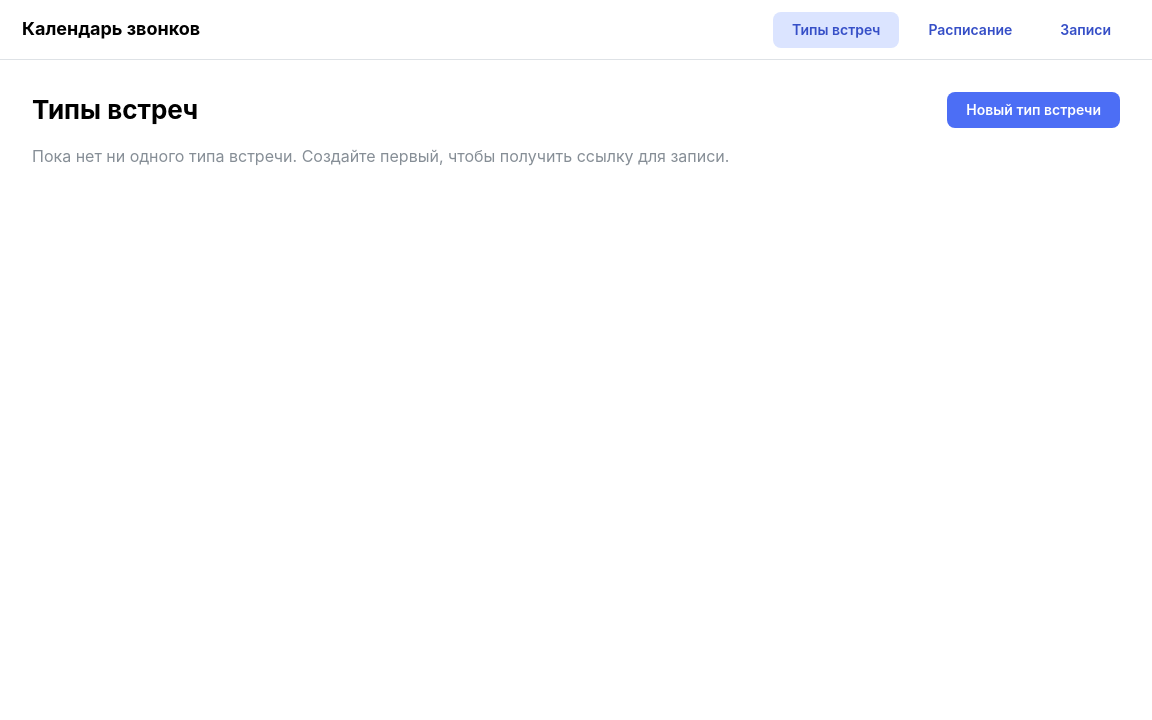
Test: EventTypesPage › validates the form before sending
Step 1. Click the button "Новый тип встречи" → (1034, 110), box [947,92,1120,128]
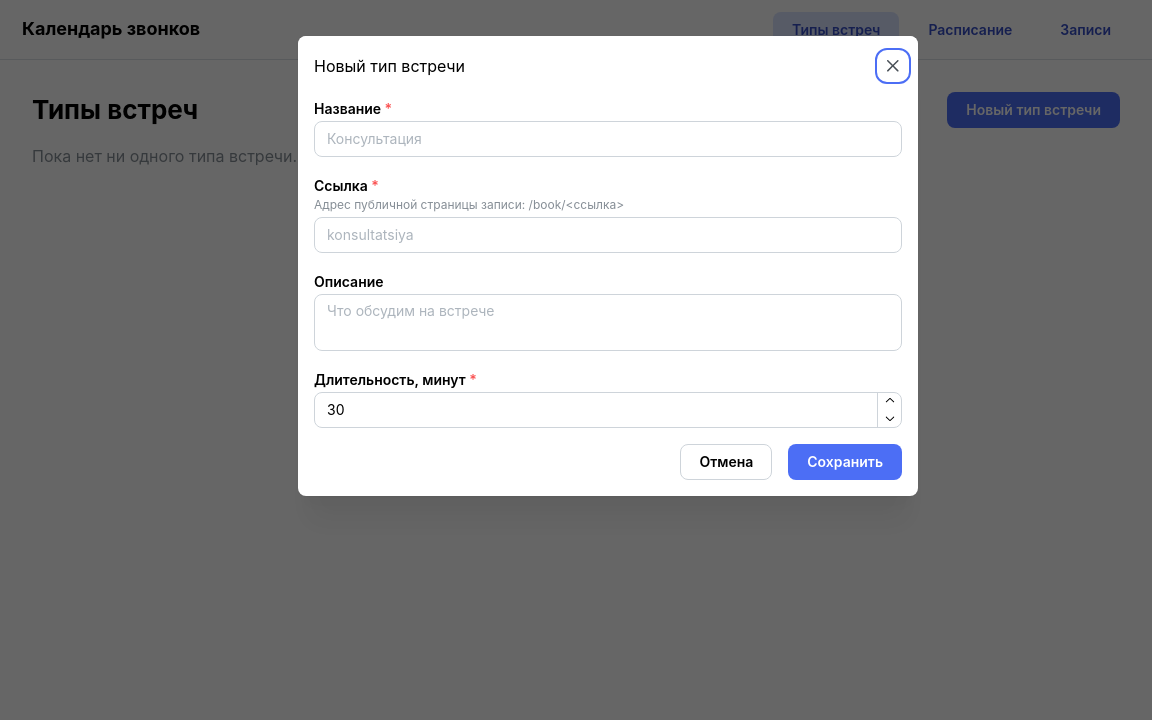
Step 2. Type "Bad Slug" into the field labelled "Ссылка *" → (608, 235), box [314,217,902,253]
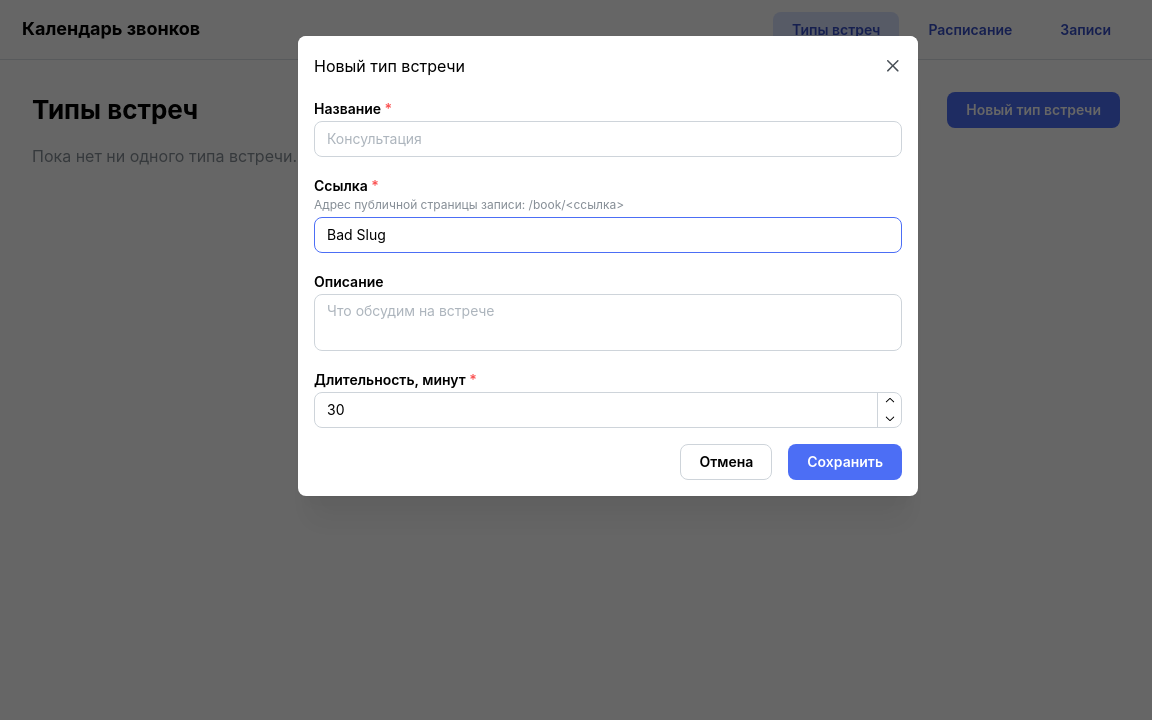
Step 3. Click the button "Сохранить" → (845, 462), box [788,444,902,480]
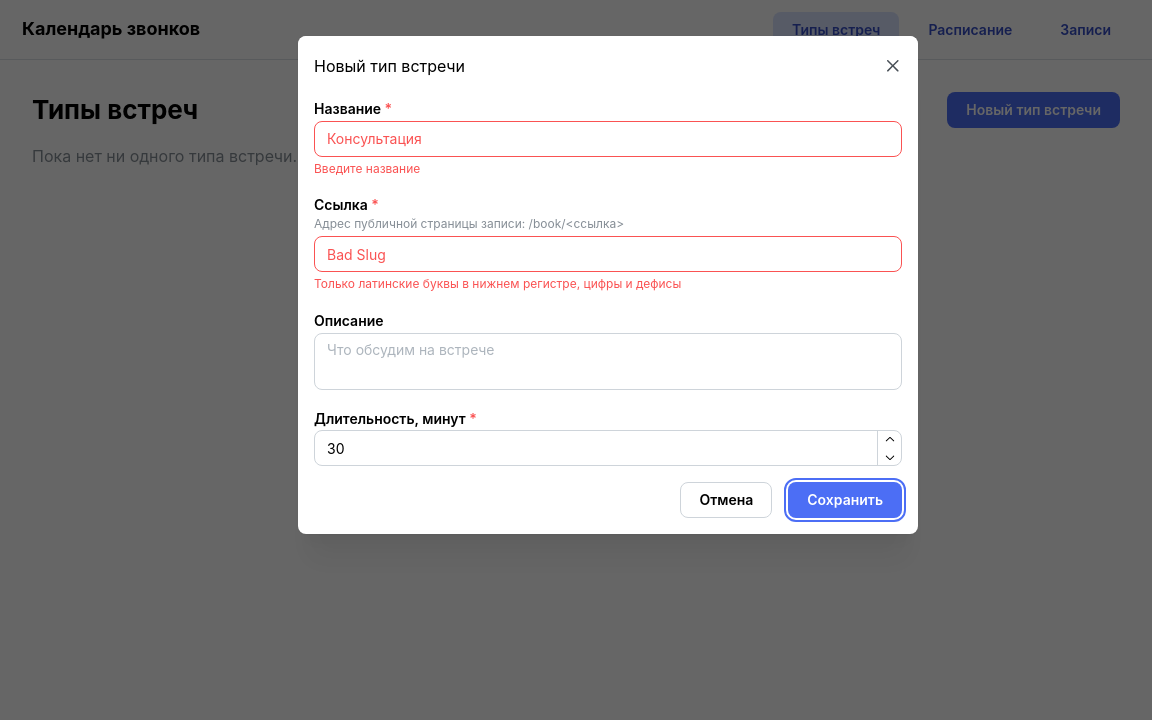
Expected: the text "Введите название" is shown, [314,161,420,176]
Expected: the text "Только латинские буквы в нижнем регистре, цифры и дефисы" is shown, [314,276,681,291]
